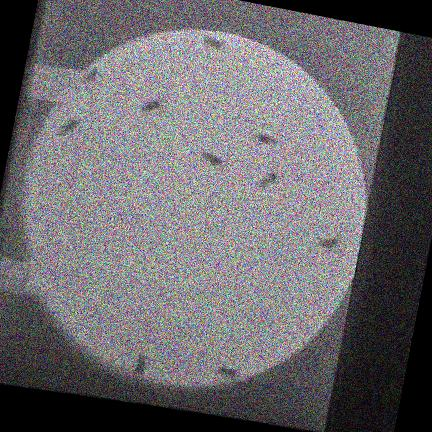fly: (58, 119, 80, 136), (253, 132, 277, 146), (259, 171, 278, 188), (140, 99, 163, 113), (202, 151, 222, 167), (201, 37, 224, 50), (81, 68, 98, 84), (218, 366, 237, 380), (135, 354, 147, 375), (319, 238, 340, 249)
